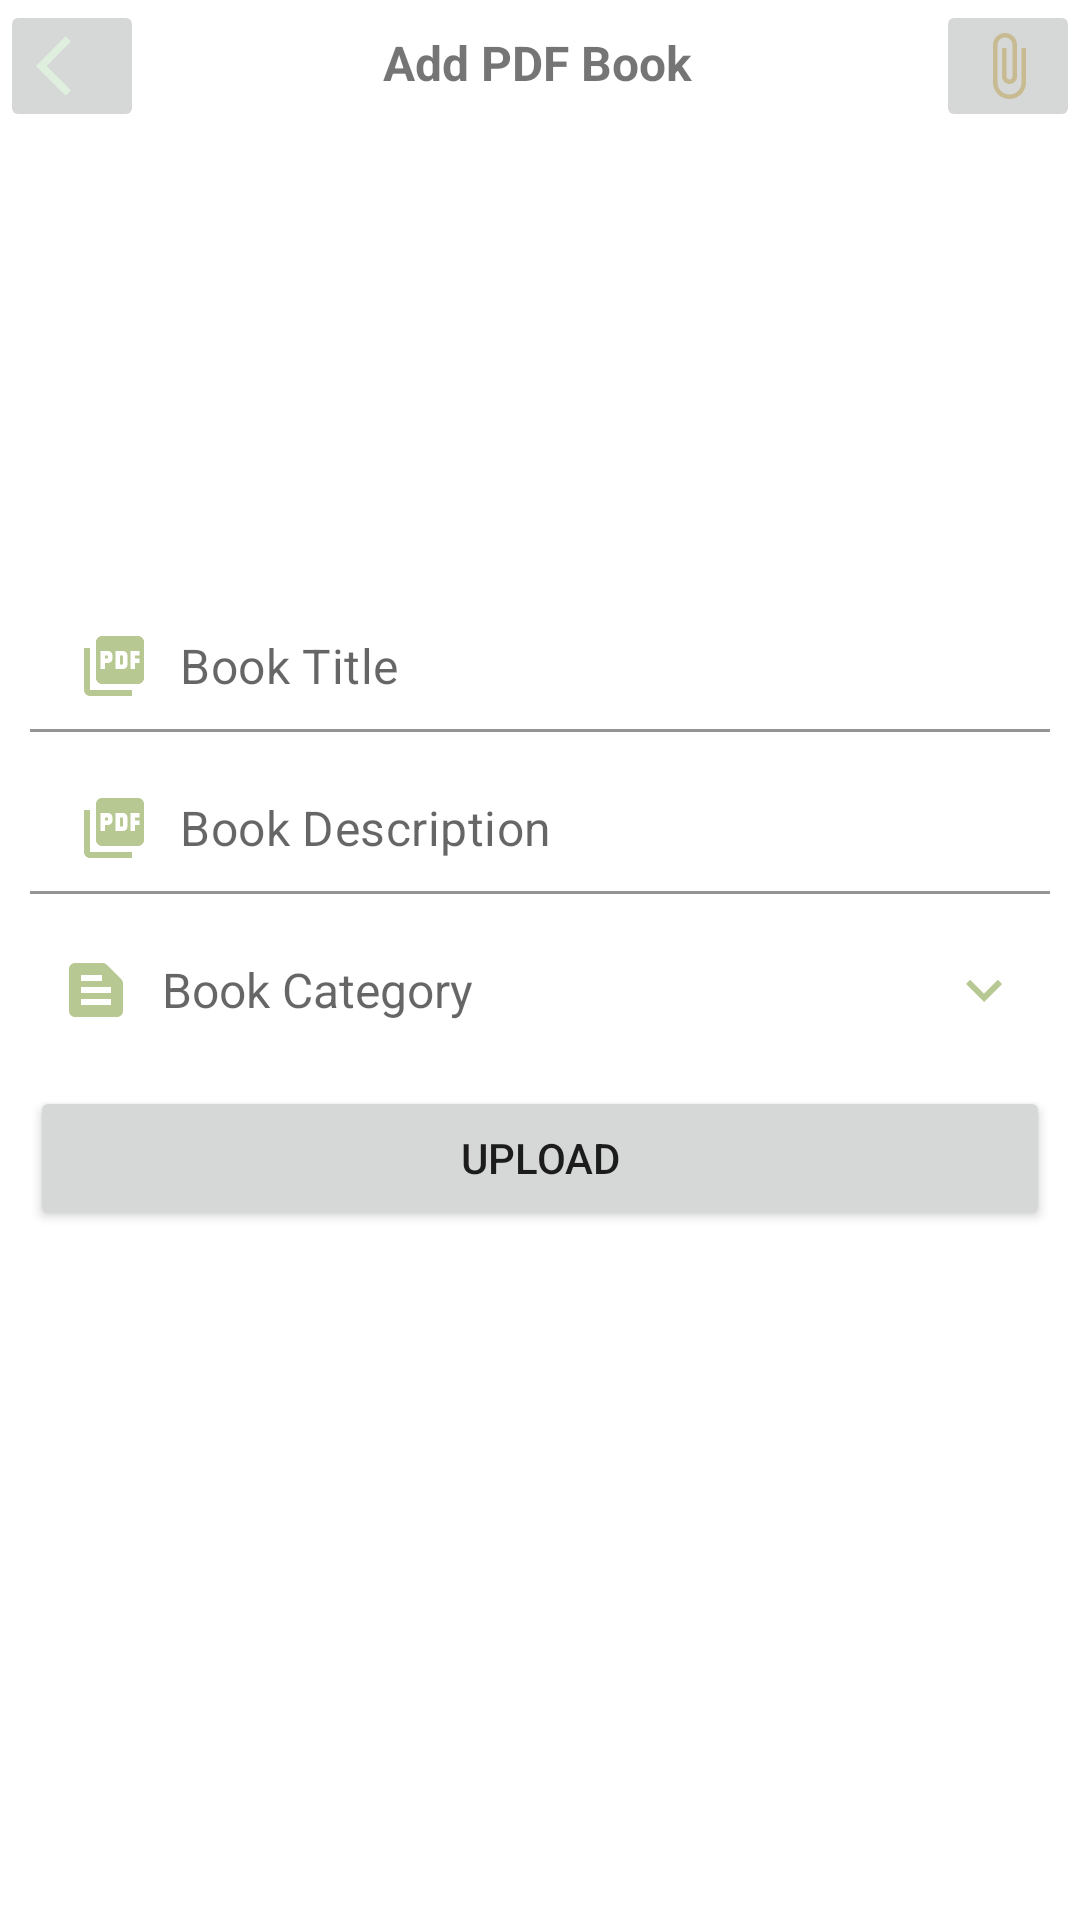

Icon click points for this 1080px×1920px phone screenshot, format [x,y]:
attach pdf file: [1008,66]
